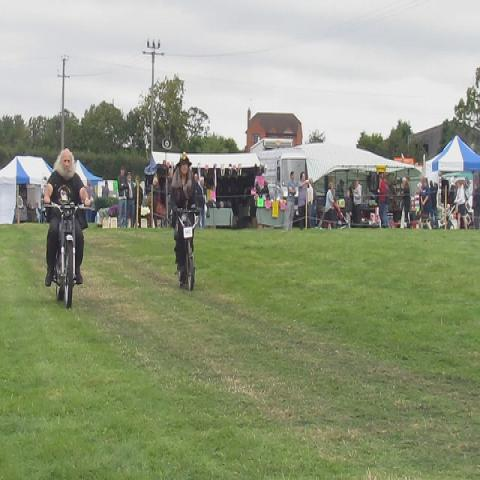bus: (257, 148, 307, 218)
motorcycle: (44, 201, 93, 308), (173, 209, 204, 292)
